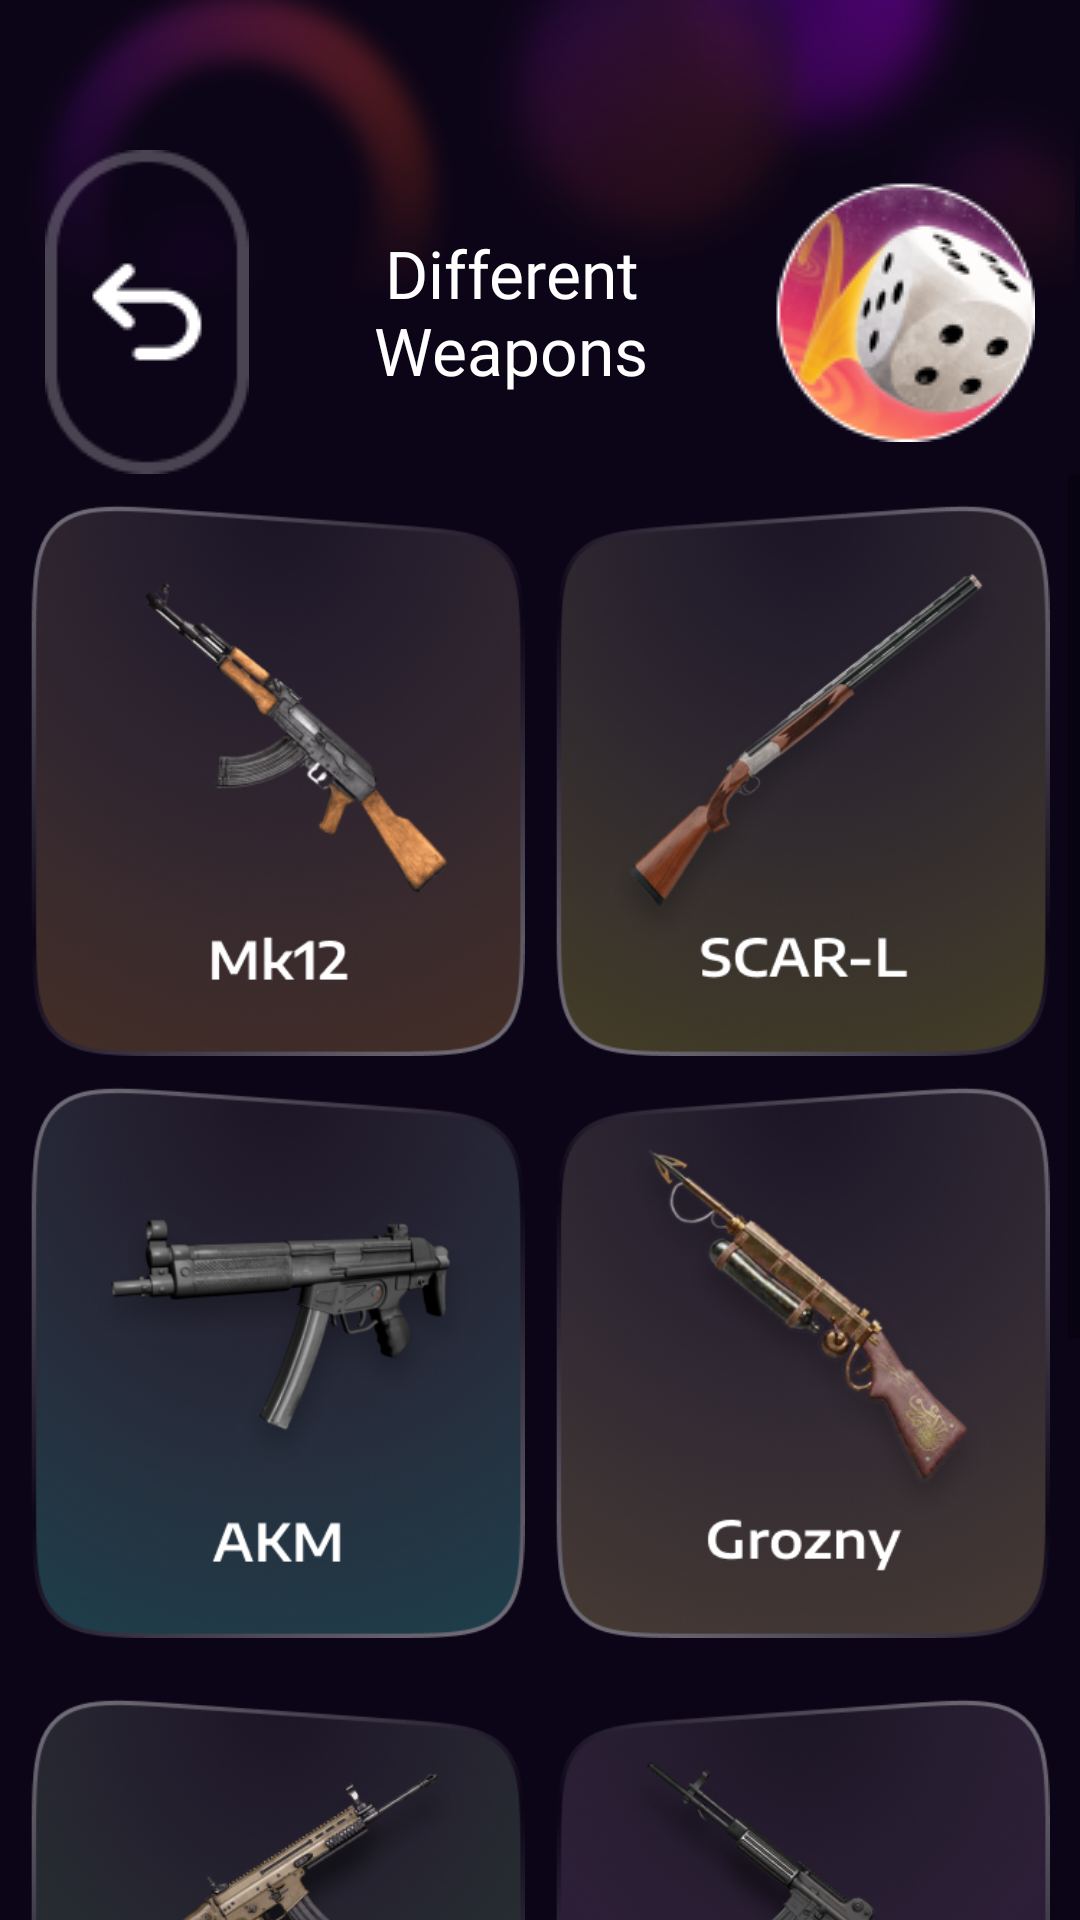

Icons on this 1080px x 1920px Android screen, each with the point to tap as [x,y]:
back: [147,312]
